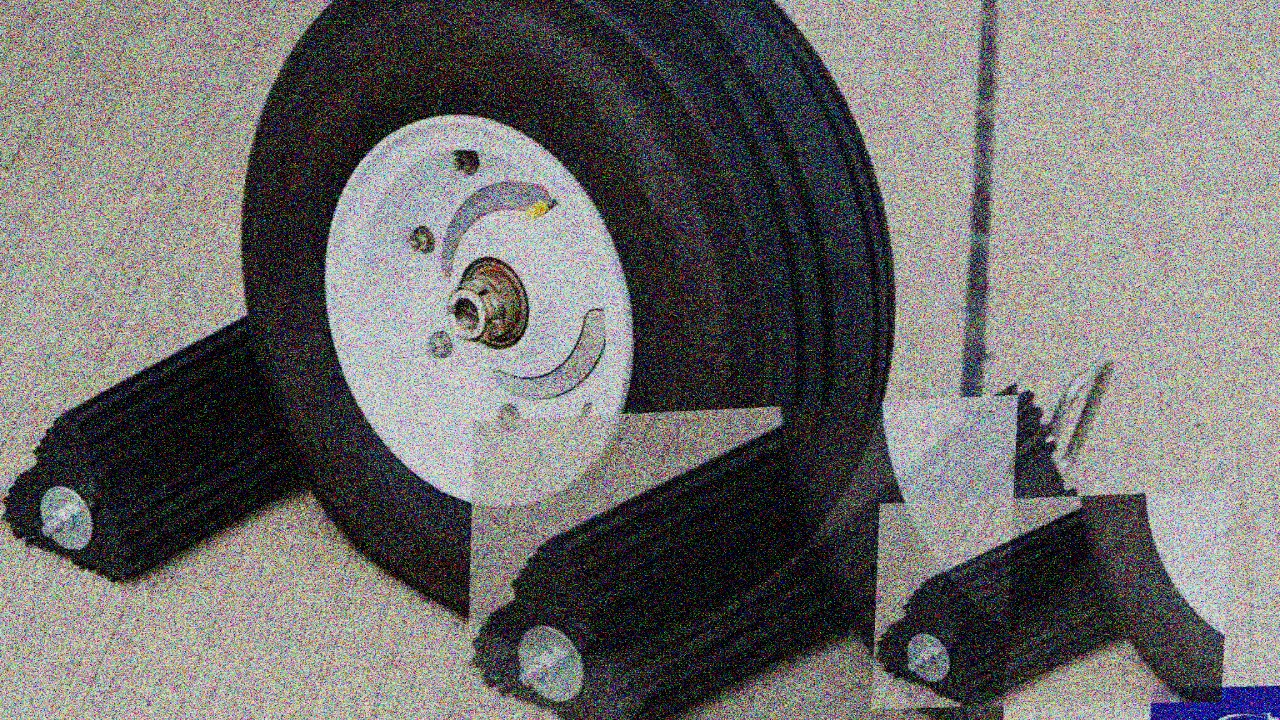chock: (466, 395, 1018, 720), (584, 378, 1105, 720), (0, 288, 433, 588), (871, 490, 1233, 709)
wheel: (231, 0, 917, 665)
